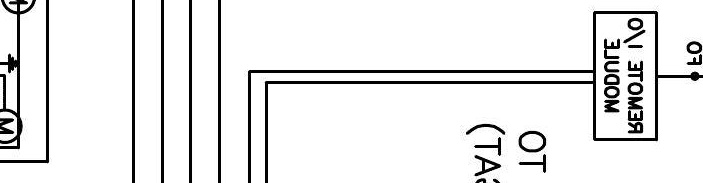remote_io_module: (593, 11, 658, 142)
